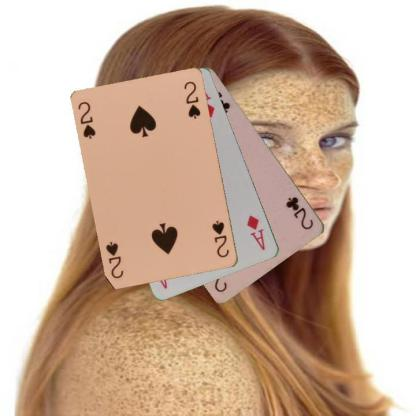2c: (283, 194, 315, 231)
2s: (76, 99, 98, 140), (210, 218, 230, 259)
Ad: (244, 213, 267, 252)
